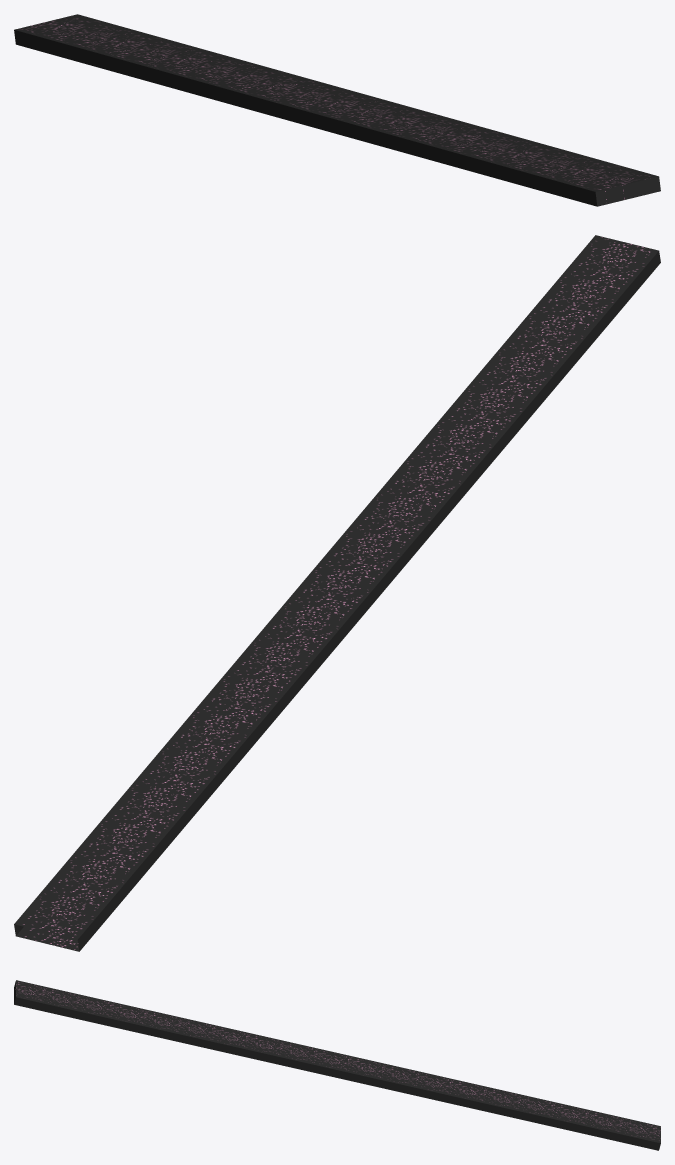
The model's file is OBJ_CourseSpring_testfloor4_1.fbx.
The picture shows the model from 3 angles, top to bottom: view 1: azimuth 30°, elevation 25°; view 2: azimuth 150°, elevation 25°; view 3: azimuth 270°, elevation 25°; orthographic projection. The views are drawn at different scales.
Parts seen in each view (by area): view 1: polySurface6; view 2: polySurface6; view 3: polySurface6.
Part boxes in pixels (left/top/right/bottom): polySurface6: left=14, top=14, right=660, bottom=206; polySurface6: left=14, top=235, right=660, bottom=951; polySurface6: left=14, top=980, right=660, bottom=1150.
Size of the model in its own units: 4.8 by 19.97 by 76.24.
1 material, 1 textured.
